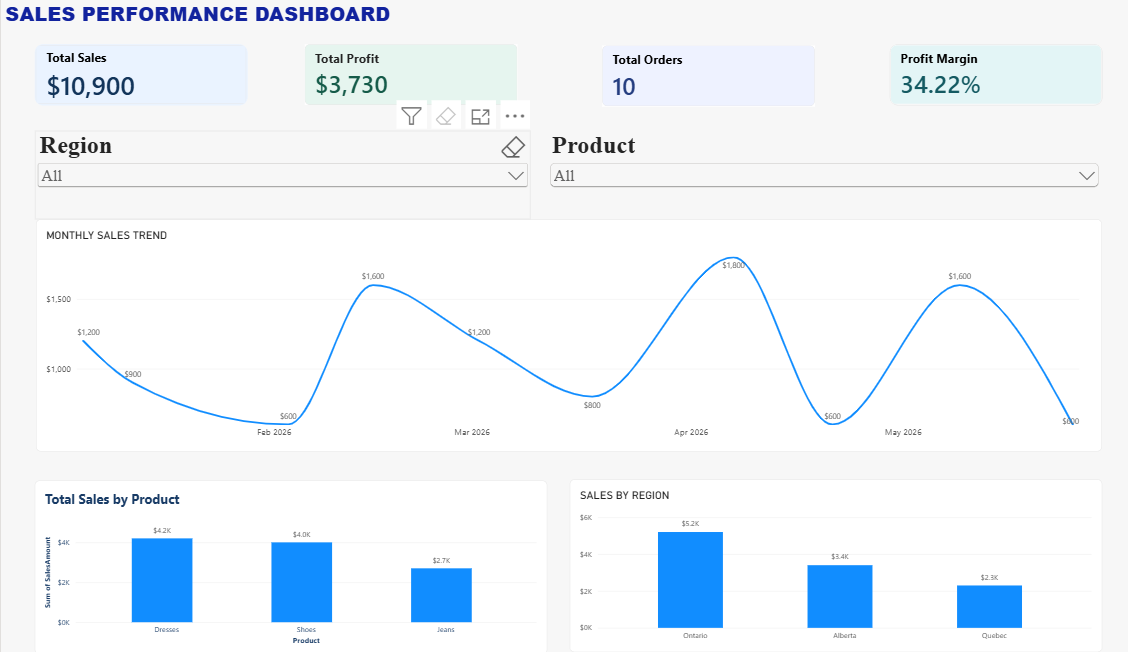

The dashboard page shown, as its layout file describes it:
{"tool":"powerbi","page":{"name":"Page 1","canvas":[1920,1080],"ordinal":0},"visuals":[{"type":"columnChart","title":"Total Sales by Product","fields":{"Category":["Sheet1.Product"],"Y":["Sum(Sheet1.SalesAmount)"]},"box":[55.6,794.5,843.9,288.2],"z":0},{"type":"cardVisual","fields":{"Data":["Sheet1.Total Sales"]},"box":[55.6,76.5,350.6,100.5],"z":1000},{"type":"cardVisual","fields":{"Data":["Sheet1.Total Profit"]},"box":[500.3,76.5,350,100],"z":2000},{"type":"cardVisual","fields":{"Data":["Sheet1.Total Orders"]},"box":[989.9,78.6,350,100.5],"z":3000},{"type":"textbox","box":[1607,33,313,210],"z":4000},{"type":"textbox","box":[23,296.5,358,173],"z":5000},{"type":"textbox","box":[0,2.1,648.4,61.7],"z":6000},{"type":"textbox","box":[23,480,358,173],"z":7000},{"type":"clusteredColumnChart","title":"SALES BY REGION","fields":{"Category":["Sheet1.Region"],"Y":["Sum(Sheet1.SalesAmount)"]},"box":[936.5,793.2,876.6,286.5],"z":8000},{"type":"lineChart","title":"MONTHLY SALES TREND","fields":{"Category":["Sheet1.OrderDate.Variation.Date Hierarchy.Year","Sheet1.OrderDate.Variation.Date Hierarchy.Quarter","Sheet1.OrderDate.Variation.Date Hierarchy.Month","Sheet1.OrderDate.Variation.Date Hierarchy.Day"],"Y":["Sum(Sheet1.SalesAmount)"]},"box":[57.7,363.5,1755.4,382.7],"z":9000},{"type":"slicer","fields":{"Values":["Sheet1.Product"]},"box":[900.1,218.1,913,145.4],"z":10000},{"type":"slicer","fields":{"Values":["Sheet1.Region"]},"box":[55.6,218.1,816.7,145.4],"z":11000},{"type":"cardVisual","fields":{"Data":["Sheet1.Profit Margin %"]},"box":[1462.4,76.5,350,100.5],"z":12001}]}

Visuals, with their boxes in screenshot pixels (x1, y1, x2, y2), scaled from the page's 1920x1080 canvas onto the 1128x652 screenshot:
"Total Sales by Product" columnChart: bbox=[33, 480, 528, 651]
cardVisual - Sheet1.Total Sales: bbox=[33, 46, 239, 107]
cardVisual - Sheet1.Total Profit: bbox=[294, 46, 500, 107]
cardVisual - Sheet1.Total Orders: bbox=[582, 47, 787, 108]
textbox: bbox=[944, 20, 1127, 147]
textbox: bbox=[14, 179, 224, 283]
textbox: bbox=[0, 1, 381, 39]
textbox: bbox=[14, 290, 224, 394]
"SALES BY REGION" clusteredColumnChart: bbox=[550, 479, 1065, 651]
"MONTHLY SALES TREND" lineChart: bbox=[34, 219, 1065, 450]
slicer - Sheet1.Product: bbox=[529, 132, 1065, 219]
slicer - Sheet1.Region: bbox=[33, 132, 512, 219]
cardVisual - Sheet1.Profit Margin %: bbox=[859, 46, 1065, 107]
